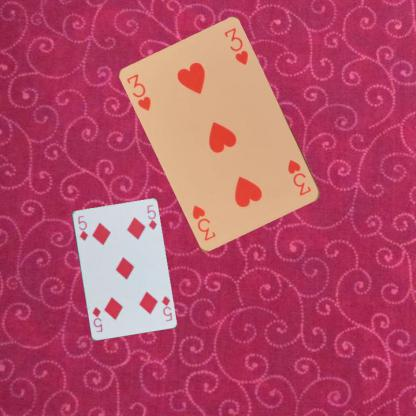3h: (124, 71, 153, 113), (285, 157, 312, 198)
5d: (75, 212, 89, 242), (159, 293, 173, 322)
